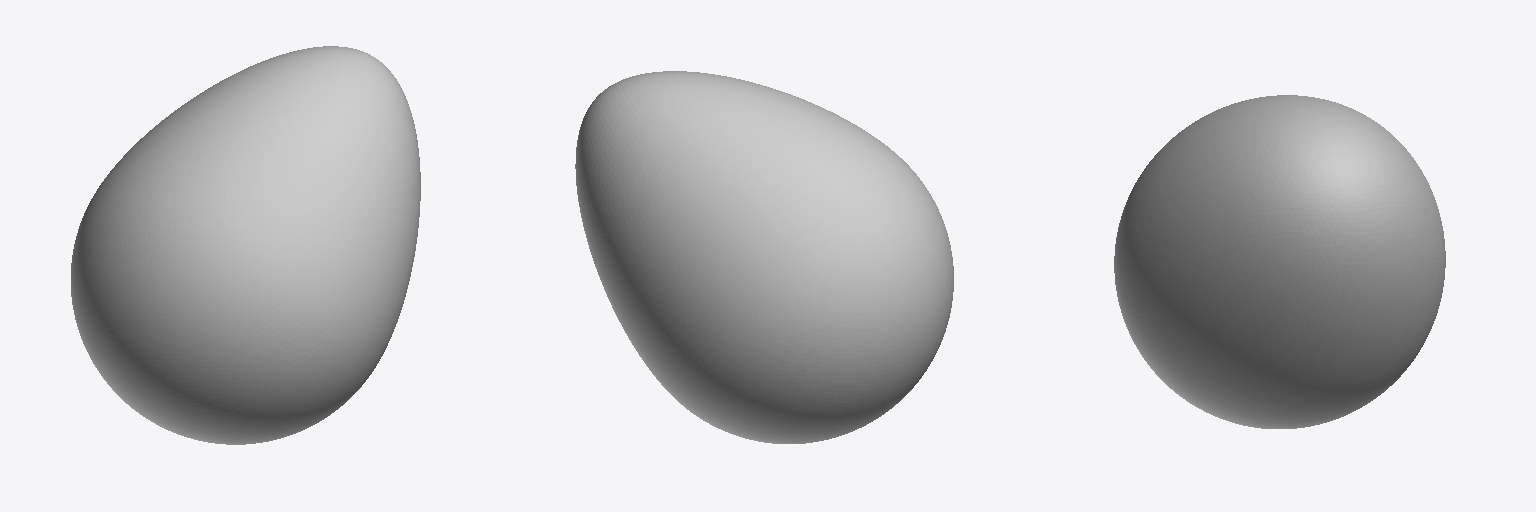
File: egg35,obj.obj
The picture shows the model from 3 angles: view 1: azimuth 30°, elevation 25°; view 2: azimuth 150°, elevation 25°; view 3: azimuth 270°, elevation 25°; orthographic projection.
Parts seen in each view (by area): view 1: Icosphere; view 2: Icosphere; view 3: Icosphere.
Boxes of the visible parts, x1,y1,x2,y2 form: Icosphere: [71, 46, 420, 444]; Icosphere: [575, 71, 953, 443]; Icosphere: [1114, 95, 1445, 428].
Bounding box in the file's own units: 2.29 × 2.25 × 2.01.